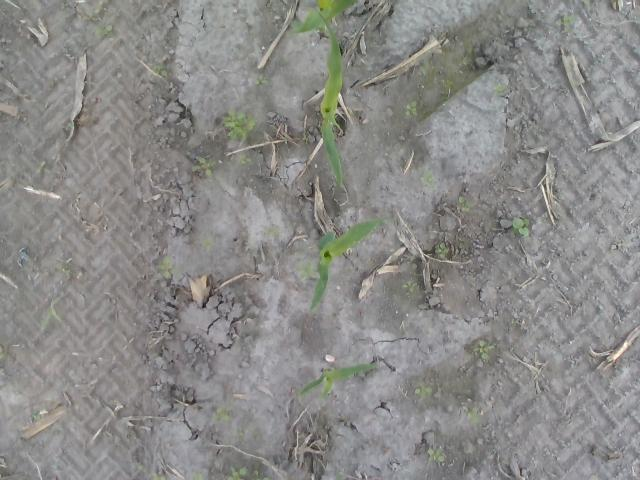Maize: (310, 220, 392, 311), (306, 5, 344, 189), (297, 365, 376, 402), (290, 1, 355, 33)
Weeds: (34, 295, 64, 338), (222, 109, 256, 144), (224, 467, 270, 480), (190, 156, 216, 178), (472, 340, 496, 362), (154, 257, 175, 279), (54, 260, 74, 281), (556, 12, 576, 32), (458, 404, 478, 422), (428, 447, 446, 463), (98, 24, 114, 41), (458, 197, 473, 215), (514, 218, 530, 234), (298, 264, 312, 282), (216, 406, 230, 423), (34, 162, 52, 175), (403, 102, 418, 116), (152, 64, 166, 78), (200, 234, 212, 250), (239, 152, 252, 166), (402, 282, 419, 292), (264, 225, 279, 236), (436, 243, 447, 258), (492, 84, 508, 94), (146, 472, 166, 480), (187, 472, 207, 480), (256, 75, 269, 87), (414, 388, 432, 396), (423, 172, 434, 184), (136, 463, 149, 473), (0, 346, 8, 362), (611, 242, 626, 250), (237, 426, 245, 439), (31, 410, 41, 420)
